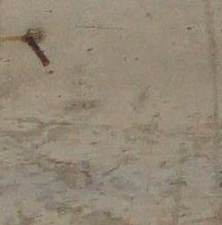Exposed reinforcement: (28, 36, 50, 68)
